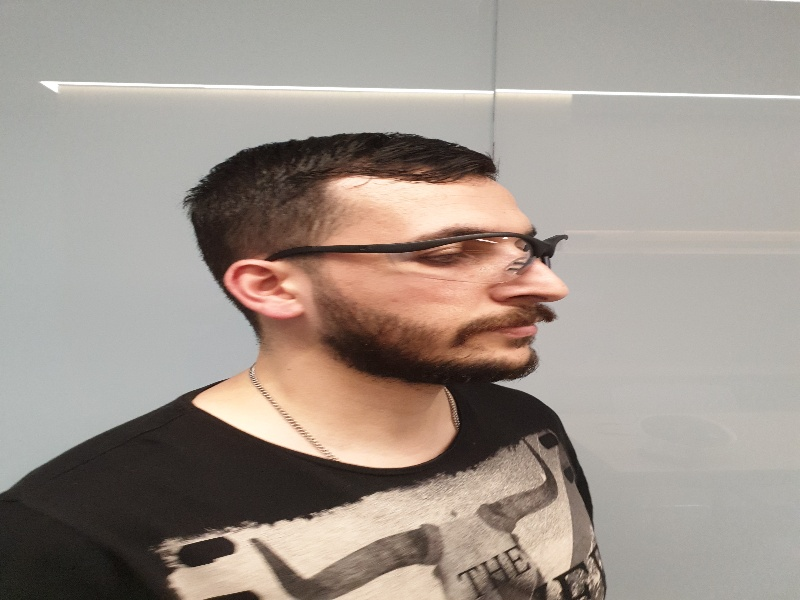Gozluk: (275, 233, 570, 284)
